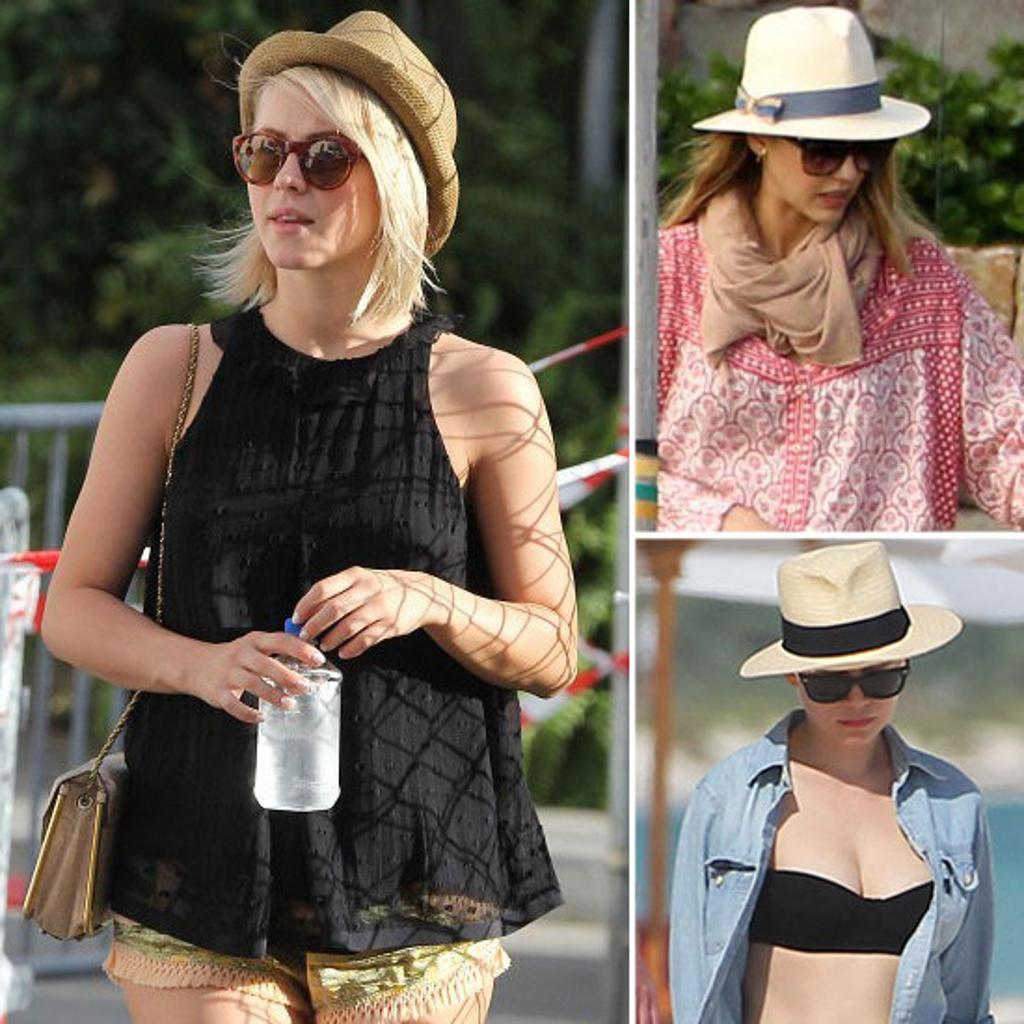face: (250, 74, 392, 266), (766, 70, 878, 222), (800, 626, 902, 744)
